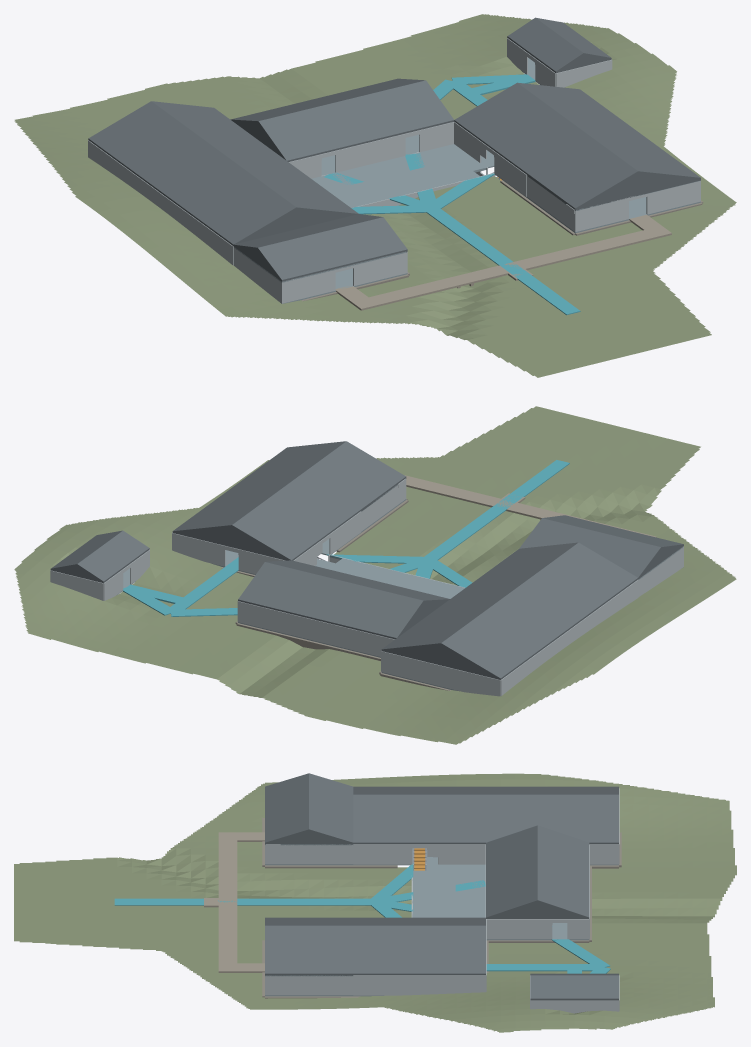
The model's file is rebuilt-entrances.glb.
The picture shows the model from 3 angles, top to bottom: view 1: azimuth 30°, elevation 25°; view 2: azimuth 150°, elevation 25°; view 3: azimuth 270°, elevation 25°; orthographic projection. The views are drawn at different scales.
Visible parts, largest first — view 1: Saved editor circulation terrain WLD-08, dormitory-and-mess roof west, radio-records roof south, laboratory roof west, generator-building roof west, Entrance rebuild Research courtyard structural deck region0, stores roof south, dormitory-and-mess roof east, Entrance rebuild WLD-08 continuous approach pavement region0, laboratory roof east, generator-building roof east, remote-shelter roof west (+23 smaller); view 2: Saved editor circulation terrain WLD-08, dormitory-and-mess roof west, radio-records roof north, generator-building roof west, laboratory roof west, dormitory-and-mess roof east, stores roof north, generator-building roof east, laboratory roof east, Wall generator N, Entrance rebuild Research courtyard structural deck region0, Entrance rebuild WLD-08 continuous approach pavement region0 (+19 smaller); view 3: Saved editor circulation terrain WLD-08, dormitory-and-mess roof east, laboratory roof east, generator-building roof east, radio-records roof north, radio-records roof south, Entrance rebuild Research courtyard structural deck region0, Entrance rebuild WLD-08 continuous approach pavement region0, Wall dorm E, stores roof north, stores roof south, remote-shelter roof east (+19 smaller).
Part boxes in pixels (left/top/right/bottom): Saved editor circulation terrain WLD-08: left=14, top=14, right=736, bottom=377; dormitory-and-mess roof west: left=454, top=83, right=637, bottom=209; radio-records roof south: left=258, top=80, right=454, bottom=161; laboratory roof west: left=161, top=154, right=296, bottom=245; generator-building roof west: left=88, top=101, right=223, bottom=192; Entrance rebuild Research courtyard structural deck region0: left=311, top=144, right=493, bottom=207; stores roof south: left=257, top=217, right=407, bottom=281; dormitory-and-mess roof east: left=517, top=82, right=700, bottom=178; Entrance rebuild WLD-08 continuous approach pavement region0: left=335, top=214, right=671, bottom=310; laboratory roof east: left=224, top=154, right=358, bottom=214; generator-building roof east: left=152, top=101, right=286, bottom=160; remote-shelter roof west: left=507, top=17, right=583, bottom=72; Saved editor circulation terrain WLD-08: left=14, top=406, right=736, bottom=744; dormitory-and-mess roof west: left=232, top=441, right=406, bottom=560; radio-records roof north: left=238, top=562, right=423, bottom=639; generator-building roof west: left=441, top=593, right=569, bottom=679; laboratory roof west: left=510, top=542, right=638, bottom=629; dormitory-and-mess roof east: left=172, top=441, right=345, bottom=532; stores roof north: left=519, top=518, right=660, bottom=578; generator-building roof east: left=381, top=593, right=508, bottom=650; laboratory roof east: left=451, top=542, right=577, bottom=598; Wall generator N: left=381, top=651, right=500, bottom=696; Entrance rebuild Research courtyard structural deck region0: left=315, top=555, right=464, bottom=598; Entrance rebuild WLD-08 continuous approach pavement region0: left=404, top=475, right=656, bottom=537; Saved editor circulation terrain WLD-08: left=14, top=773, right=736, bottom=1032; dormitory-and-mess roof east: left=265, top=925, right=485, bottom=974; laboratory roof east: left=353, top=794, right=485, bottom=844; generator-building roof east: left=486, top=794, right=618, bottom=844; radio-records roof north: left=537, top=825, right=589, bottom=918; radio-records roof south: left=486, top=825, right=537, bottom=918; Entrance rebuild Research courtyard structural deck region0: left=412, top=864, right=485, bottom=917; Entrance rebuild WLD-08 continuous approach pavement region0: left=204, top=832, right=264, bottom=972; Wall dorm E: left=353, top=975, right=485, bottom=995; stores roof north: left=309, top=773, right=353, bottom=843; stores roof south: left=265, top=773, right=308, bottom=843; remote-shelter roof east: left=530, top=975, right=618, bottom=999.
Size of the model in its own units: 83 by 9.24 by 98.
Materials: 41 (19 with a texture image).
